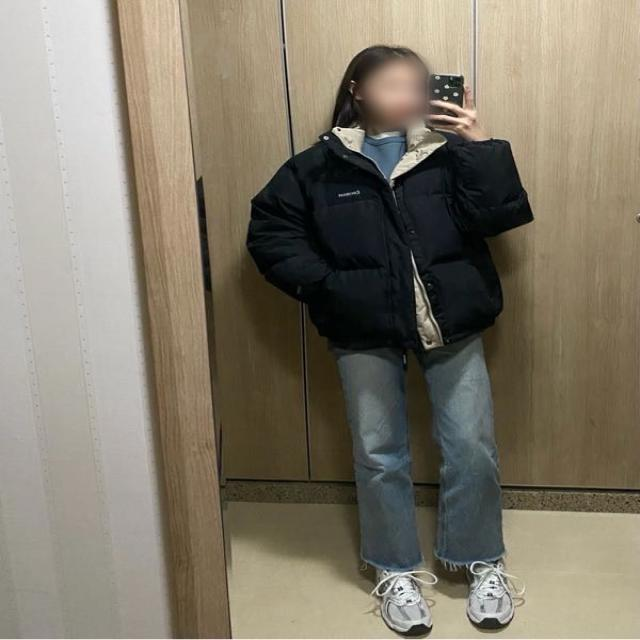denimpants: (339, 332, 505, 574)
padding: (247, 119, 533, 352)
